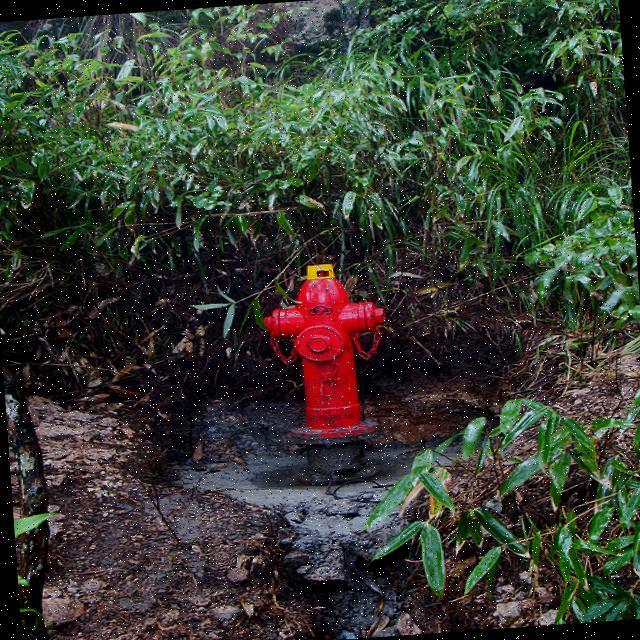fire_hydrant: (238, 249, 401, 496)
